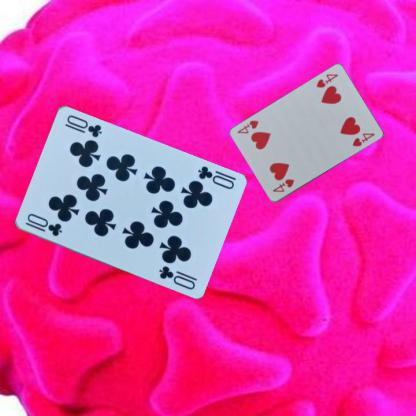10c: (22, 211, 64, 238), (195, 164, 235, 190)
4h: (270, 176, 295, 194), (314, 72, 339, 90)
